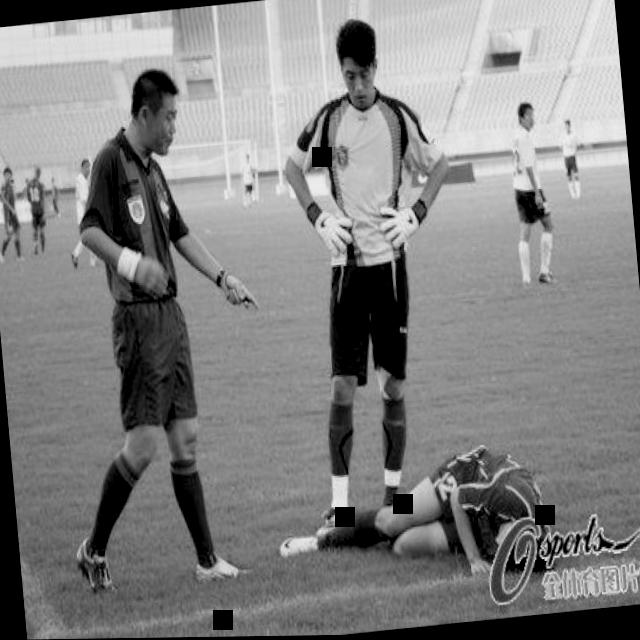Fall-Detected: (264, 423, 568, 596)
